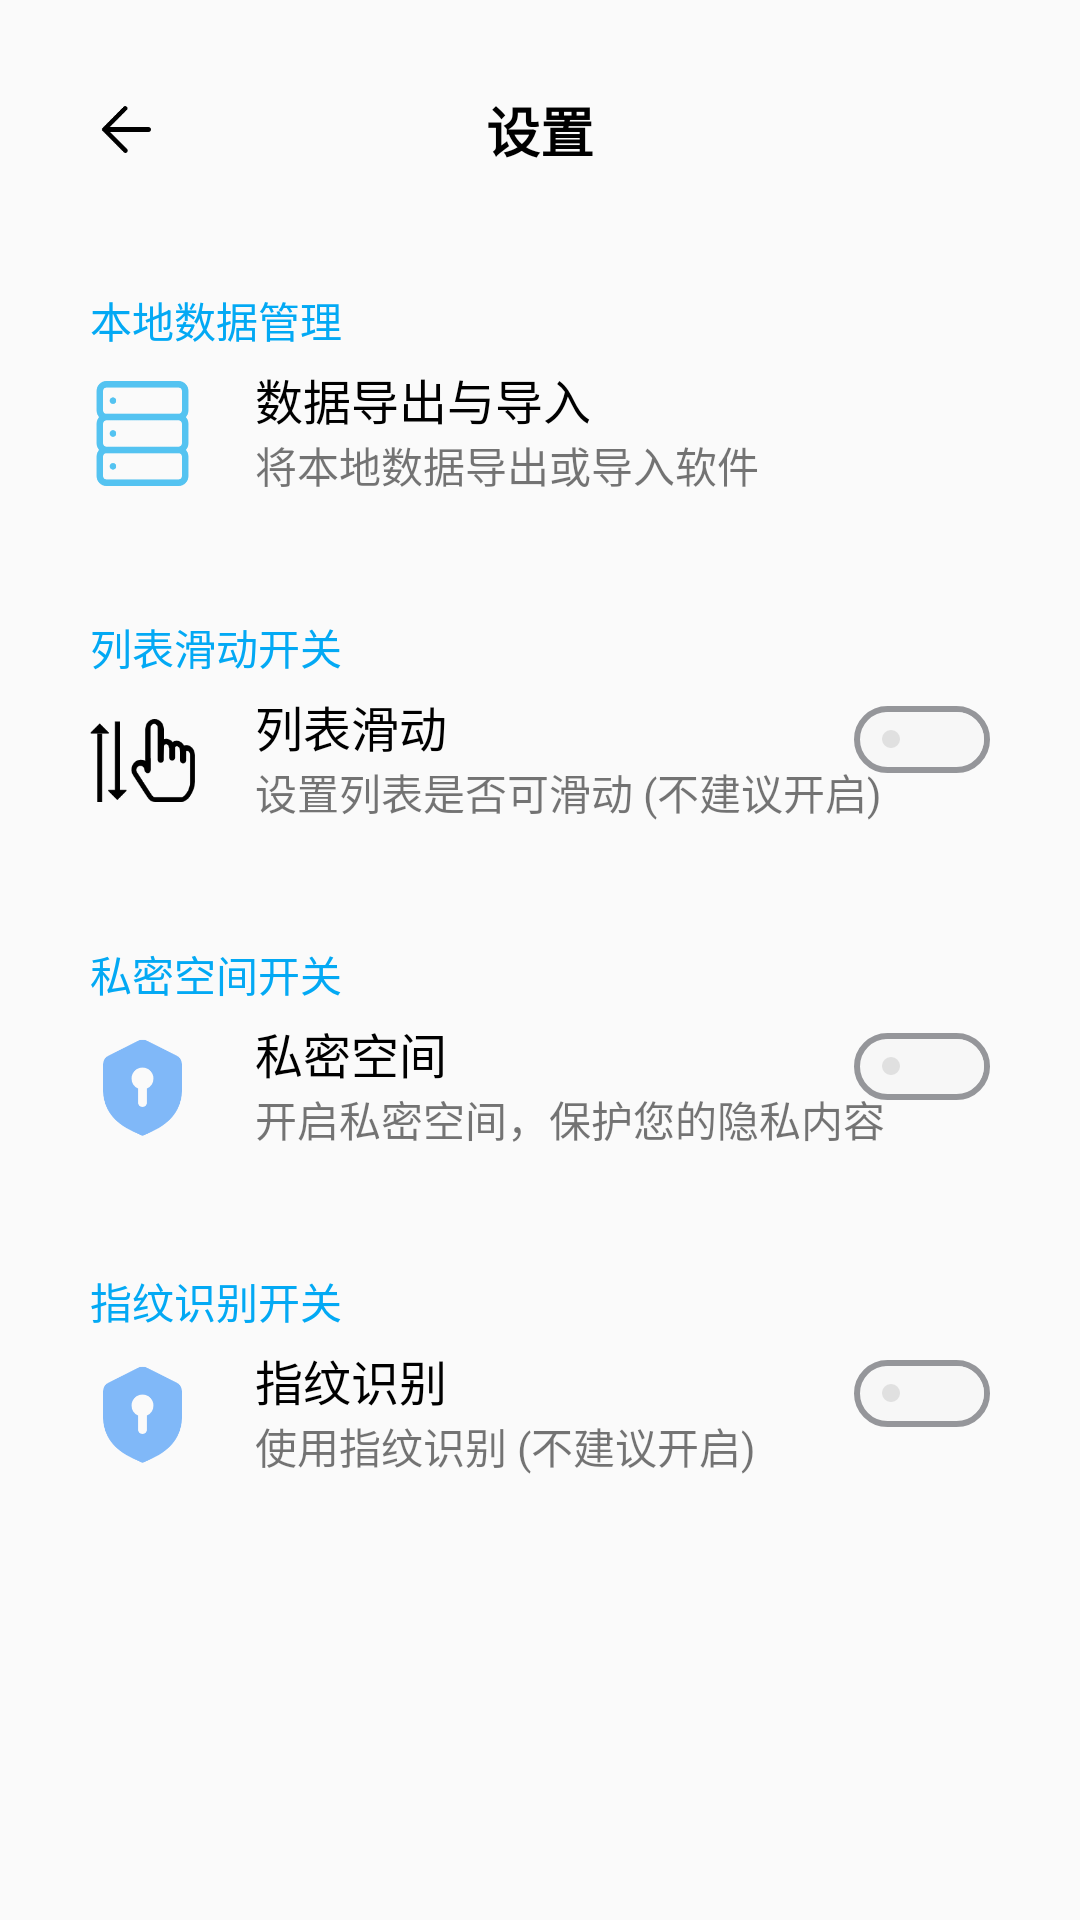

Where to tap for icons on this 1080px x 1920px app screen, as [x,y]:
back android: [126,129]
data: [142,433]
personal: [142,1088], [142,1415]
slide: [142,760]
